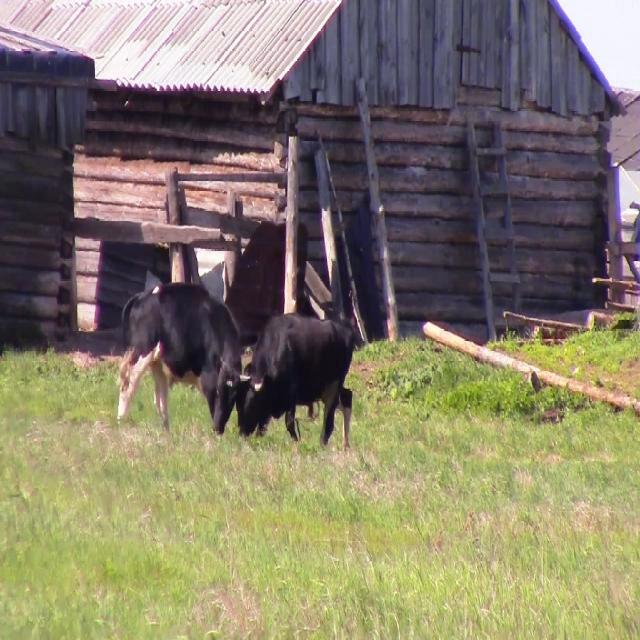cow: (118, 284, 241, 433), (240, 314, 352, 447)
